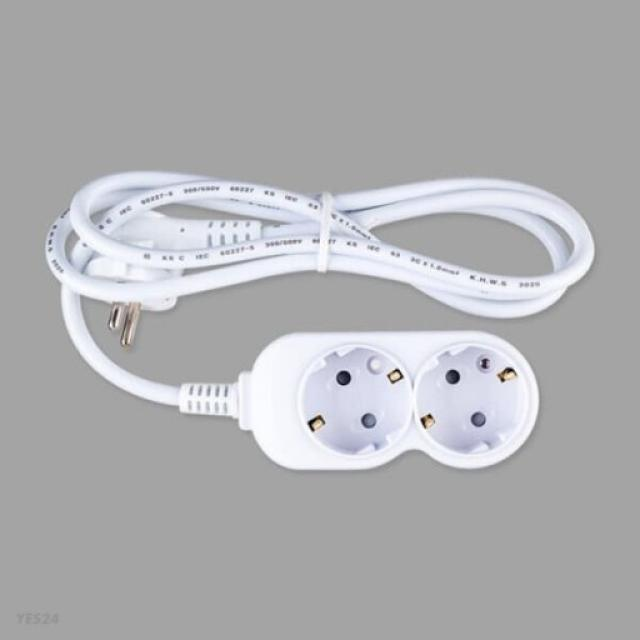typeb: (186, 321, 556, 488)
